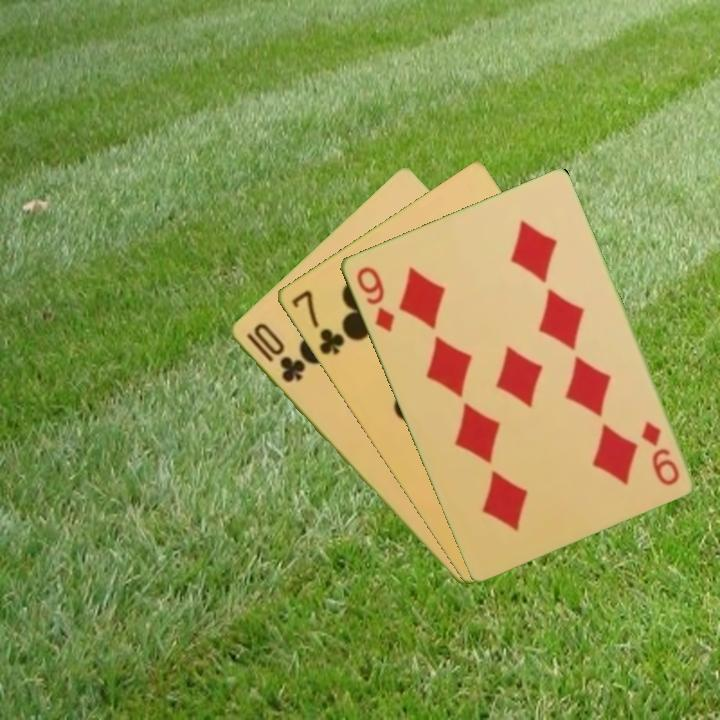10c: (241, 319, 308, 386)
7c: (287, 286, 347, 358)
9d: (352, 262, 397, 335), (637, 417, 682, 489)
